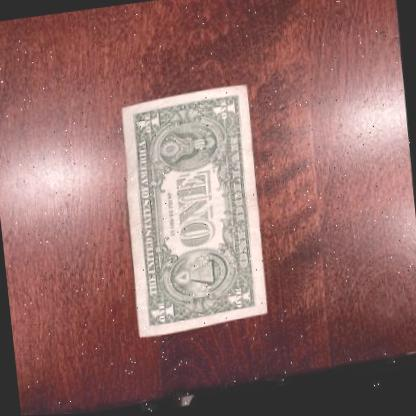one-back: (116, 85, 274, 342)
